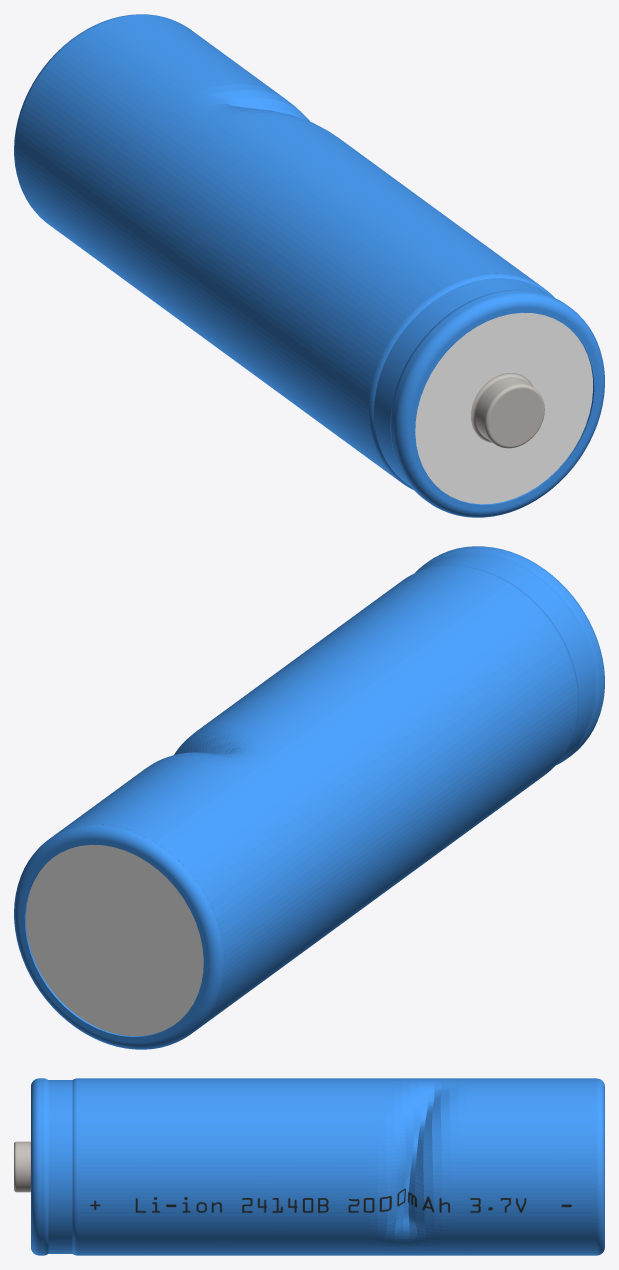
File: defect_5.glb
The picture shows the model from 3 angles, top to bottom: view 1: azimuth 30°, elevation 25°; view 2: azimuth 150°, elevation 25°; view 3: azimuth 270°, elevation 25°; orthographic projection. The views are drawn at different scales.
Visible parts, largest first — view 1: Cylinder, Cell_Top; view 2: Cylinder, Cell_bottom, Cell_Top; view 3: Cylinder, Cell_Top, Cell_bottom.
Part boxes in pixels (x1,y1,x2,y2): Cylinder: [15, 15, 550, 480]; Cell_Top: [368, 273, 604, 517]; Cylinder: [41, 566, 577, 1031]; Cell_bottom: [14, 824, 224, 1049]; Cell_Top: [415, 546, 604, 765]; Cylinder: [77, 1078, 596, 1255]; Cell_Top: [14, 1078, 77, 1255]; Cell_bottom: [596, 1078, 604, 1255].
Size of the model in its own units: 0.021 by 0.021 by 0.07.
10 materials, 1 textured.
